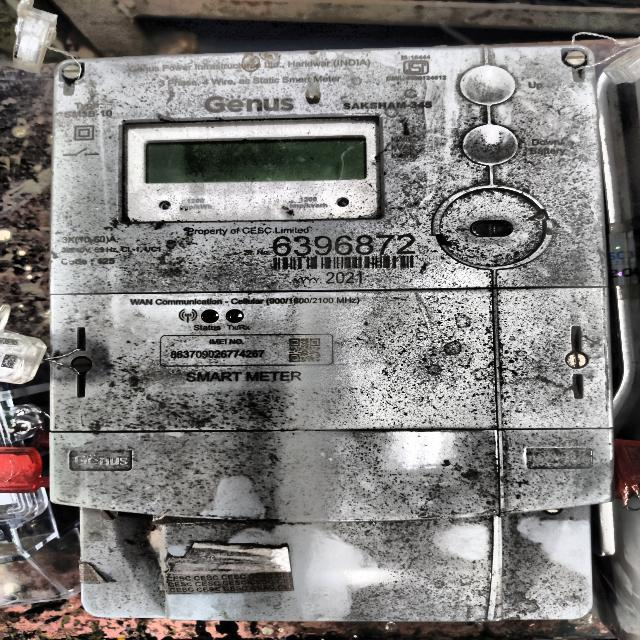Digital: (60, 56, 620, 630)
Reading: (146, 141, 364, 179)
Serial No.: (272, 234, 418, 256)
